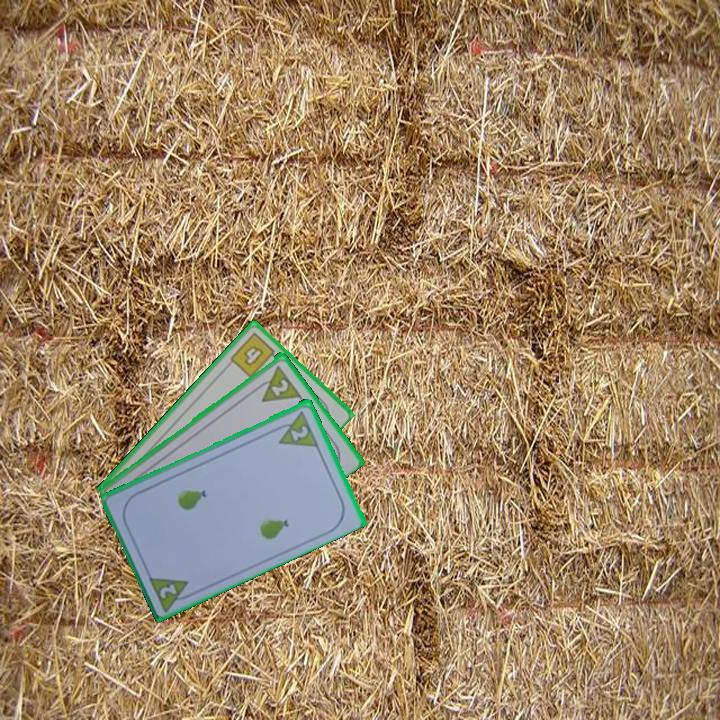2p: (250, 362, 303, 405), (145, 571, 198, 614), (270, 406, 321, 450)
4b: (226, 329, 282, 380)
